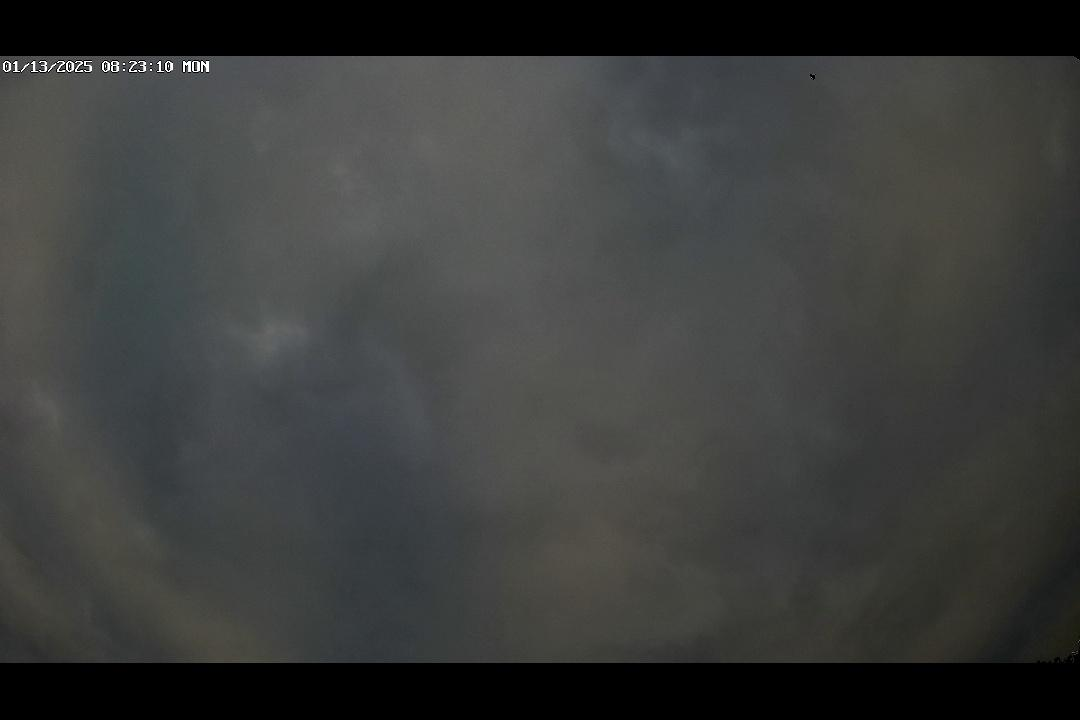WildLife: (796, 68, 830, 84)
